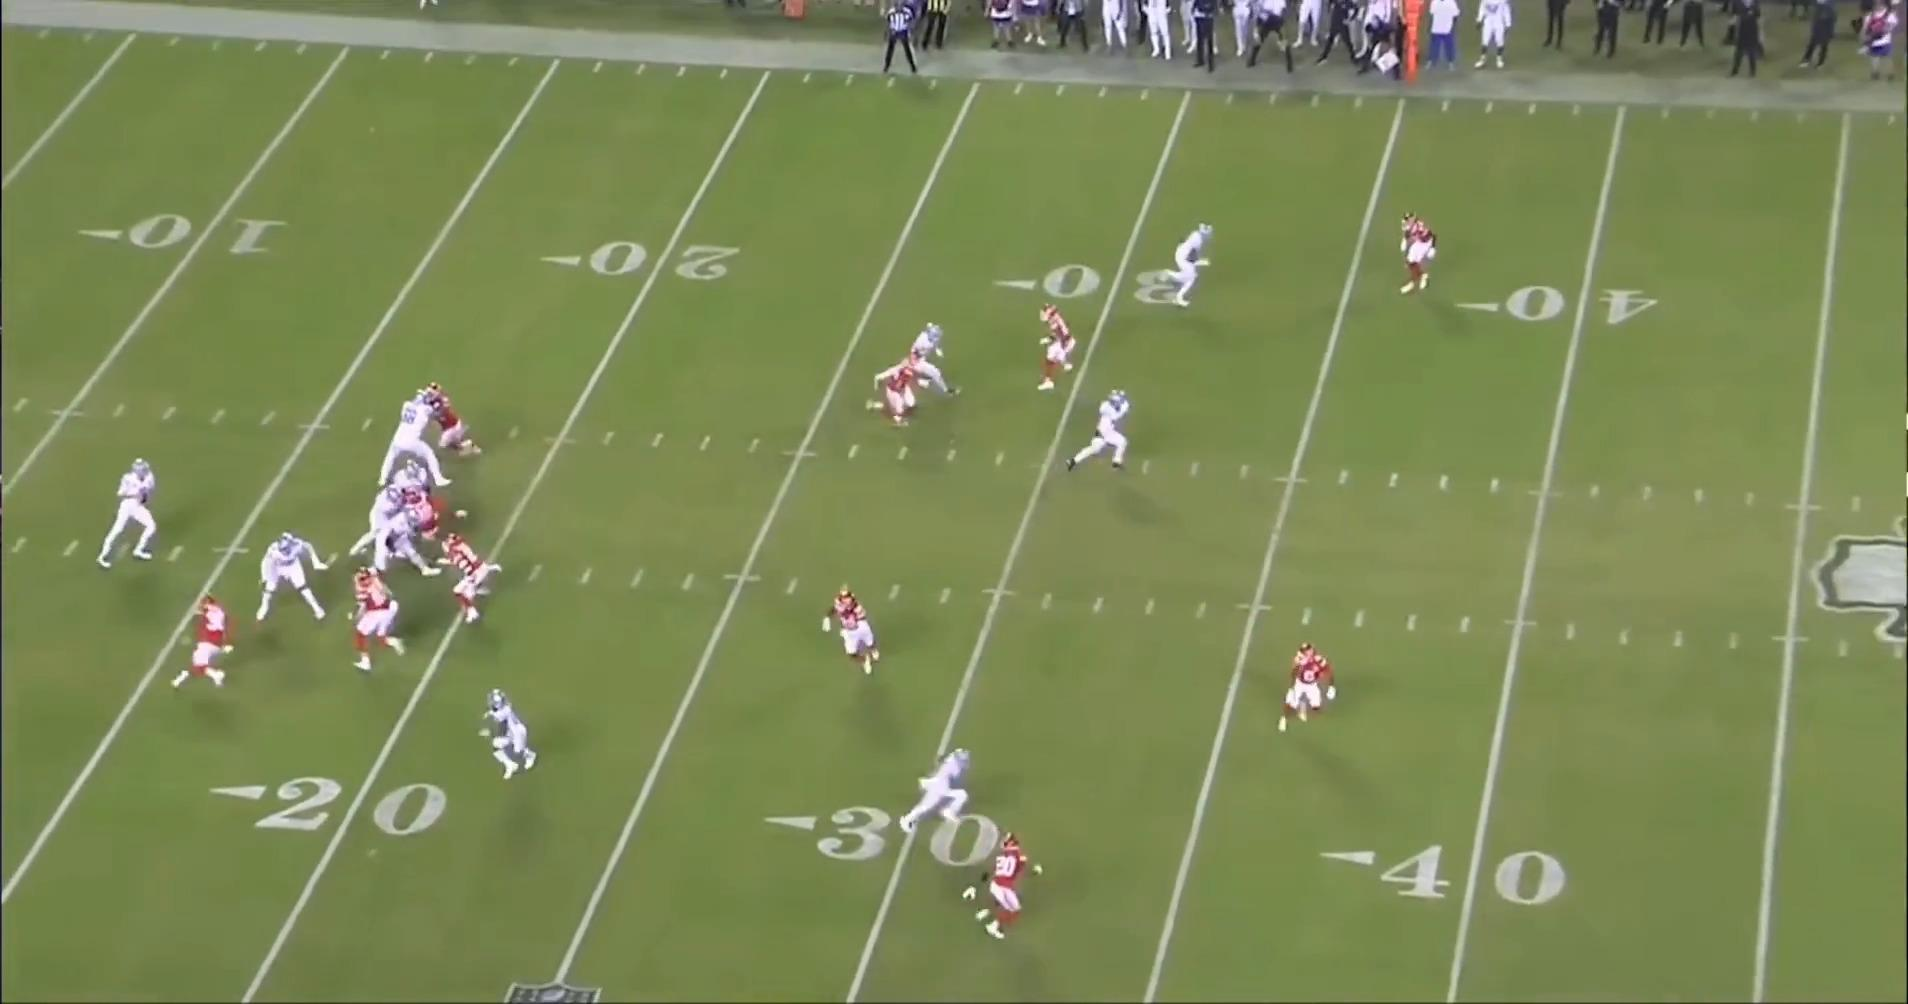defense: (970, 832, 1045, 947), (344, 565, 409, 672), (173, 593, 242, 691), (819, 579, 886, 677), (399, 474, 464, 571), (1272, 641, 1336, 737), (433, 537, 496, 633), (858, 352, 920, 429), (416, 378, 474, 455), (1399, 207, 1446, 295), (1040, 308, 1083, 400)
oline: (247, 527, 331, 626), (384, 390, 454, 491), (365, 502, 443, 584), (346, 483, 420, 561), (389, 458, 438, 492)
qb: (88, 454, 160, 573)
ref: (874, 0, 921, 81)
skill: (901, 742, 980, 835), (486, 684, 549, 782), (1071, 391, 1141, 479), (1171, 223, 1225, 313), (914, 322, 960, 404)
